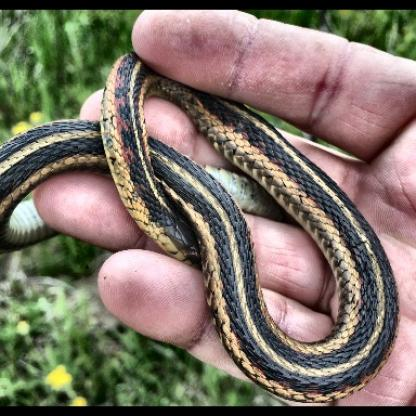Snake: (2, 26, 416, 395)
